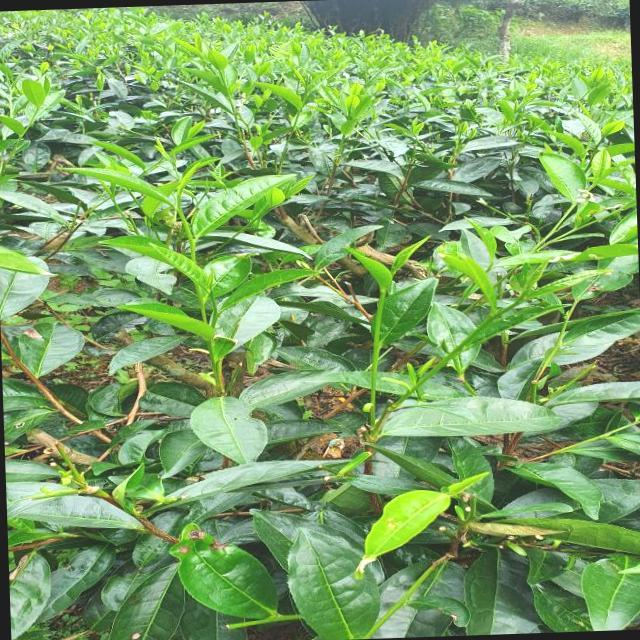Stem: (212, 314, 219, 321), (177, 208, 183, 214), (381, 289, 385, 296)
